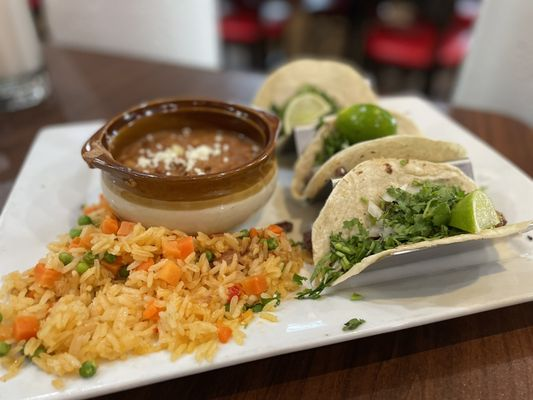soup: (305, 151, 499, 297)
sushi: (82, 96, 281, 236)
